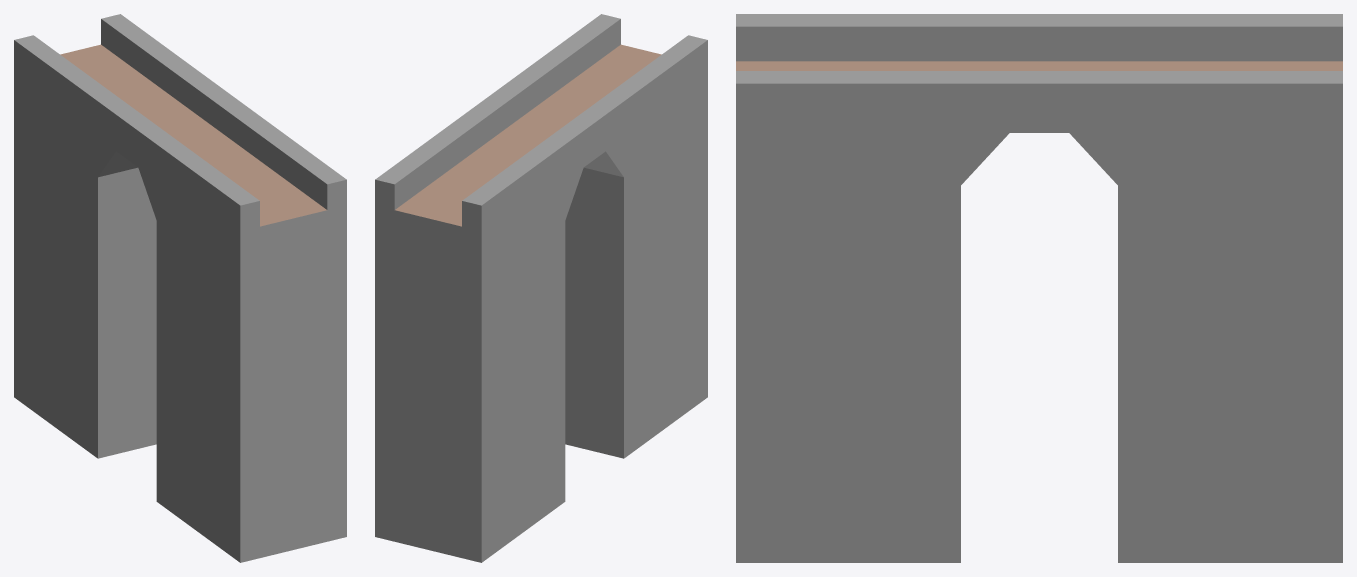
Rendered from Bridge01.fbx.
3 views of the same model, side by side, from view 1: azimuth 30°, elevation 25°; view 2: azimuth 150°, elevation 25°; view 3: azimuth 270°, elevation 25° (orthographic). The views are drawn at different scales.
Parts seen in each view (by area): view 1: Bridge_Big3; view 2: Bridge_Big3; view 3: Bridge_Big3.
Part boxes in pixels (<box>): Bridge_Big3: <box>14,14,346,562</box>; Bridge_Big3: <box>375,14,707,562</box>; Bridge_Big3: <box>736,14,1342,562</box>.
Size of the model in its own units: 0.4703 by 1.51 by 1.73.
